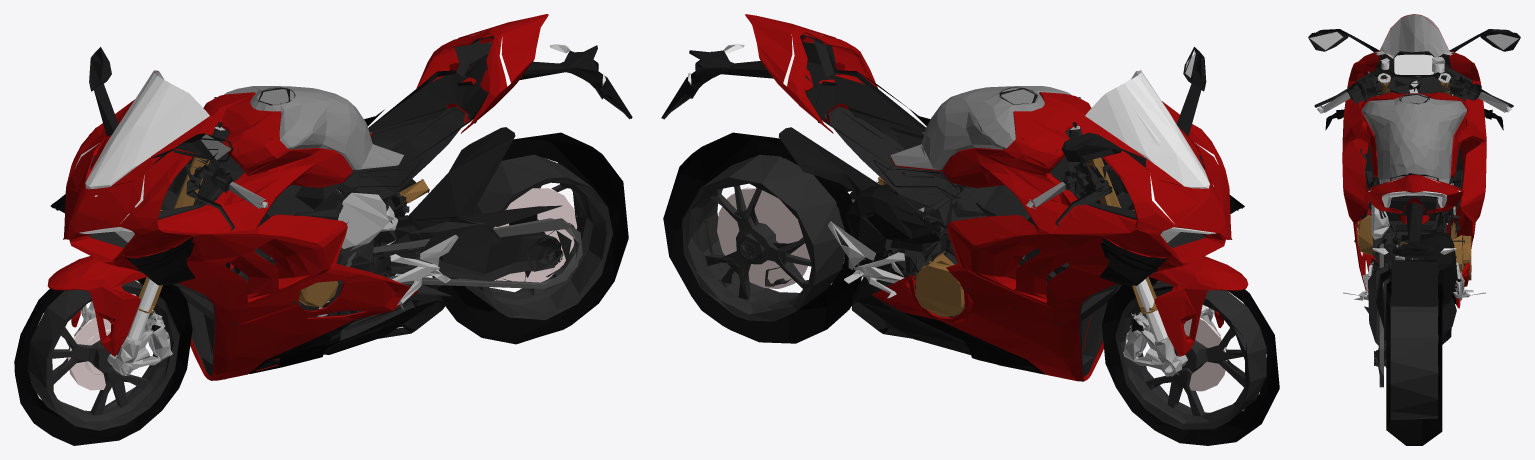
File: ducati_v4r_lo.glb
The picture shows the model from 3 angles, left to right: view 1: azimuth 30°, elevation 25°; view 2: azimuth 150°, elevation 25°; view 3: azimuth 270°, elevation 25°; orthographic projection. The views are drawn at different scales.
Visible parts, largest first — view 1: v4r10, V4r1, v4r12, v4r13, v4r4, v4r5, v4r20, v4r11, v4r19, v4r18, v4r2, v4r16 (+2 smaller); view 2: v4r10, V4r1, v4r13, v4r4, v4r12, v4r5, v4r20, v4r15, v4r16, v4r18, v4r19, v4r2 (+2 smaller); view 3: v4r10, V4r1, v4r13, v4r19, v4r5, v4r4, v4r9, v4r15, v4r3, v4r2, v4r7, v4r18 (+1 smaller).
Boxes of the visible parts, x1,y1,x2,y2 form: v4r10: (47,14,562,380); V4r1: (74,36,571,376); v4r12: (28,280,179,430); v4r13: (460,154,612,319); v4r4: (432,132,628,344); v4r5: (79,70,209,242); v4r20: (14,277,192,445); v4r11: (345,218,582,288); v4r19: (90,122,267,231); v4r18: (323,266,444,354); v4r2: (89,47,233,166); v4r16: (494,188,577,282); v4r10: (745,14,1248,381); V4r1: (740,35,1220,376); v4r13: (682,154,846,321); v4r4: (663,132,861,343); v4r12: (1115,280,1266,429); v4r5: (1085,71,1215,242); v4r20: (1102,277,1279,445); v4r15: (845,184,1069,299); v4r16: (717,187,810,288); v4r18: (851,262,970,354); v4r19: (1026,122,1204,226); v4r2: (1061,47,1206,167); v4r10: (1325,50,1503,330); V4r1: (1343,75,1485,374); v4r13: (1390,297,1438,419); v4r19: (1314,51,1513,113); v4r5: (1374,14,1454,207); v4r4: (1386,281,1442,445); v4r9: (1391,260,1437,306); v4r15: (1394,229,1457,304); v4r3: (1391,202,1436,292); v4r2: (1308,29,1520,52); v4r7: (1309,32,1518,50); v4r18: (1442,296,1456,344).
Size of the model in its own units: 75.84 by 42.11 by 28.92.
